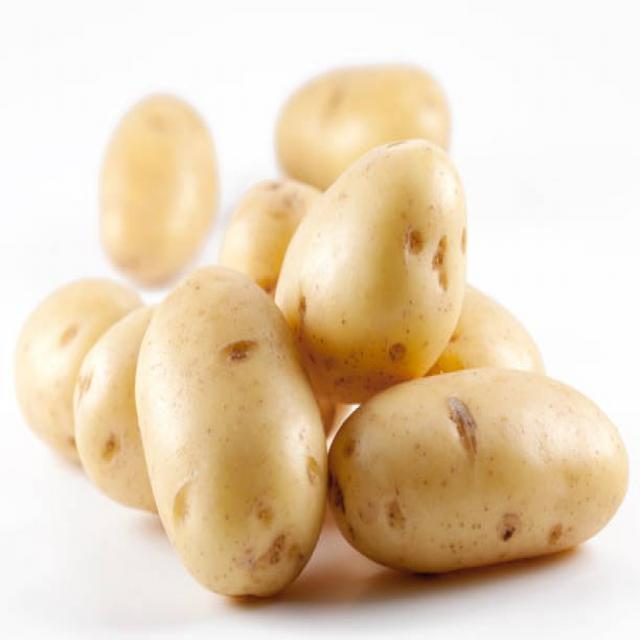Potato: (327, 368, 633, 577), (137, 264, 312, 598), (280, 133, 473, 353), (10, 275, 136, 488), (97, 86, 221, 269)
